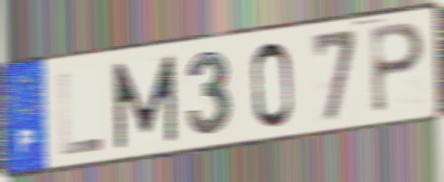0: (249, 39, 294, 132)
3: (184, 47, 234, 141)
7: (311, 27, 359, 126)
L: (57, 69, 105, 159)
M: (110, 52, 179, 153)
P: (369, 21, 428, 117)
